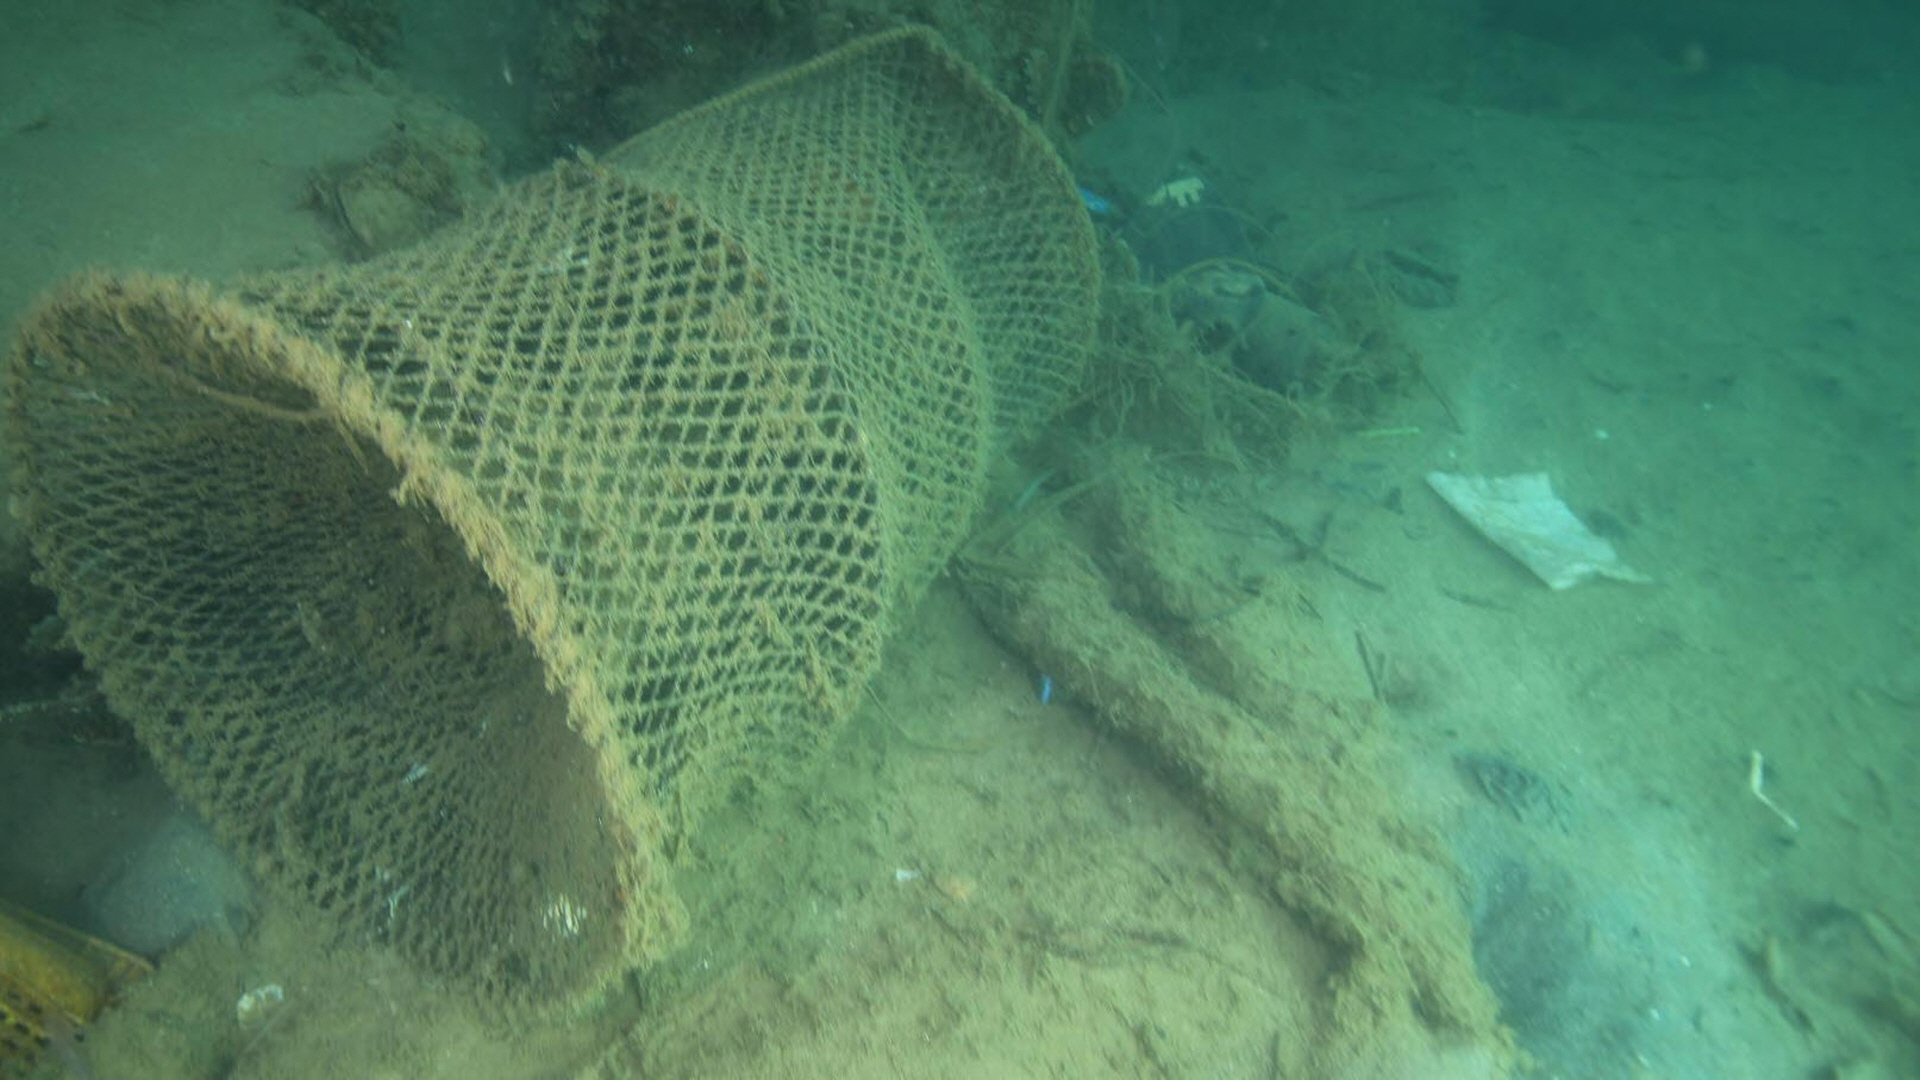spring fish trap: (0, 22, 1102, 1036)
